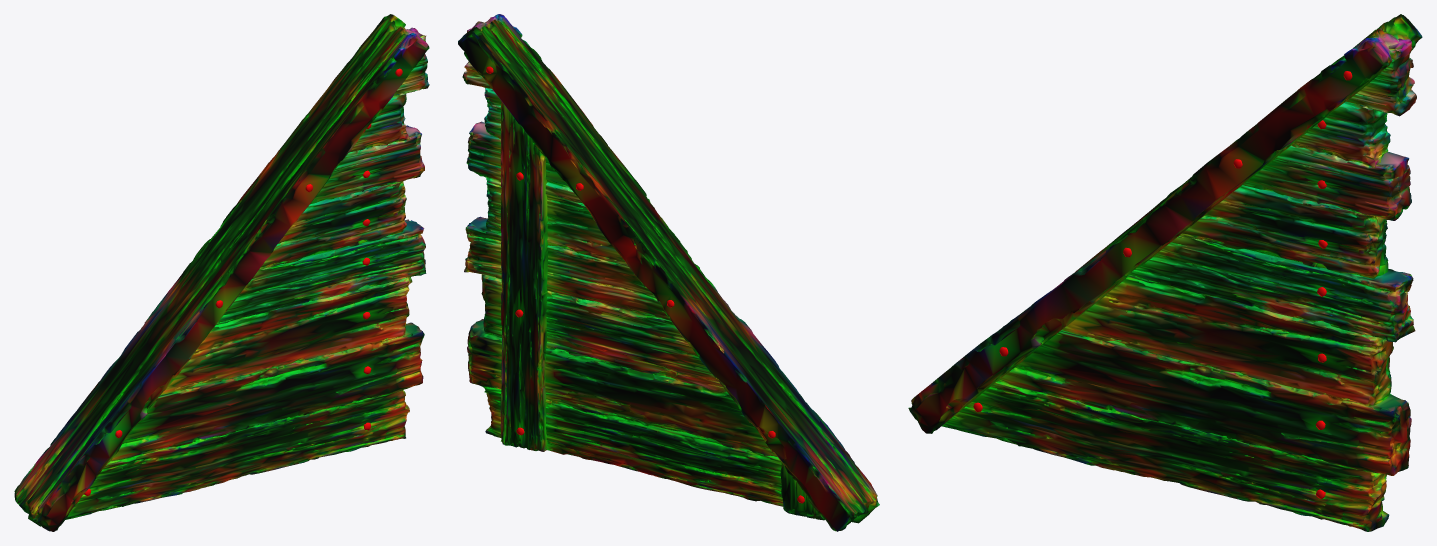
The model's file is SM_Wood_Wall_Tri_L.fbx.
3 renders of one model, left to right at view 1: azimuth 30°, elevation 25°; view 2: azimuth 150°, elevation 25°; view 3: azimuth 330°, elevation 25°, orthographic. The views are drawn at different scales.
Parts seen in each view (by area): view 1: SM_Wood_Wall_Tri_L_LOD0; view 2: SM_Wood_Wall_Tri_L_LOD0; view 3: SM_Wood_Wall_Tri_L_LOD0.
Part boxes in pixels (box(x1,y1,x2,y2)): SM_Wood_Wall_Tri_L_LOD0: box(14, 14, 429, 531); SM_Wood_Wall_Tri_L_LOD0: box(458, 14, 879, 531); SM_Wood_Wall_Tri_L_LOD0: box(908, 14, 1422, 531).
Bounding box in the file's own units: 319 × 43.87 × 315.
